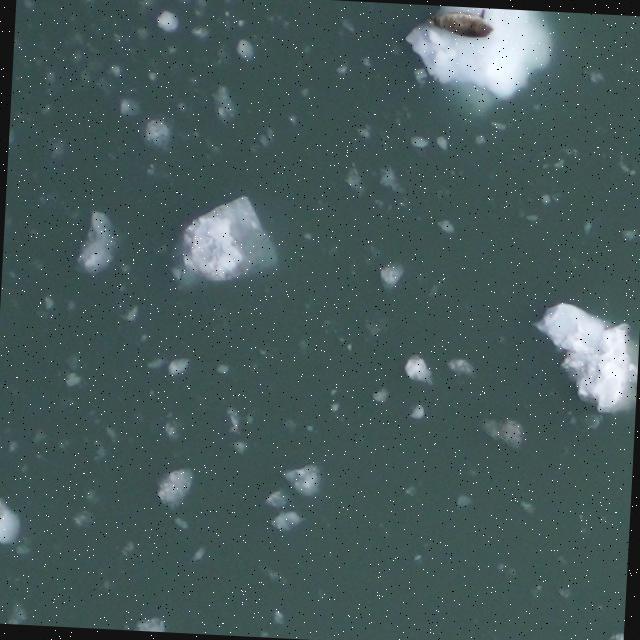seal: (420, 6, 498, 42)
